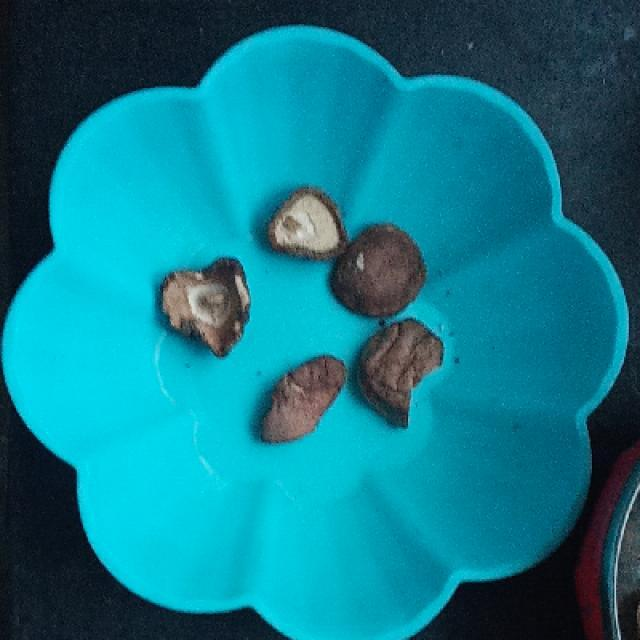Lentinus edodes: (355, 317, 448, 429), (158, 256, 253, 361), (334, 223, 426, 318), (259, 356, 348, 443), (265, 183, 344, 260)
